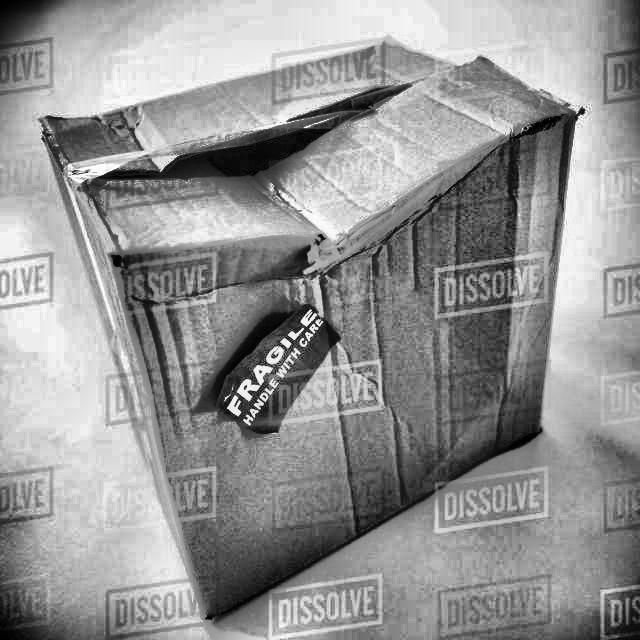box: (24, 24, 592, 635)
hole: (90, 86, 425, 179), (510, 113, 570, 143)
